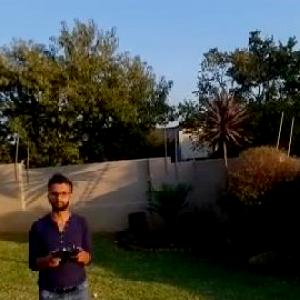follow: (24, 171, 98, 299)
